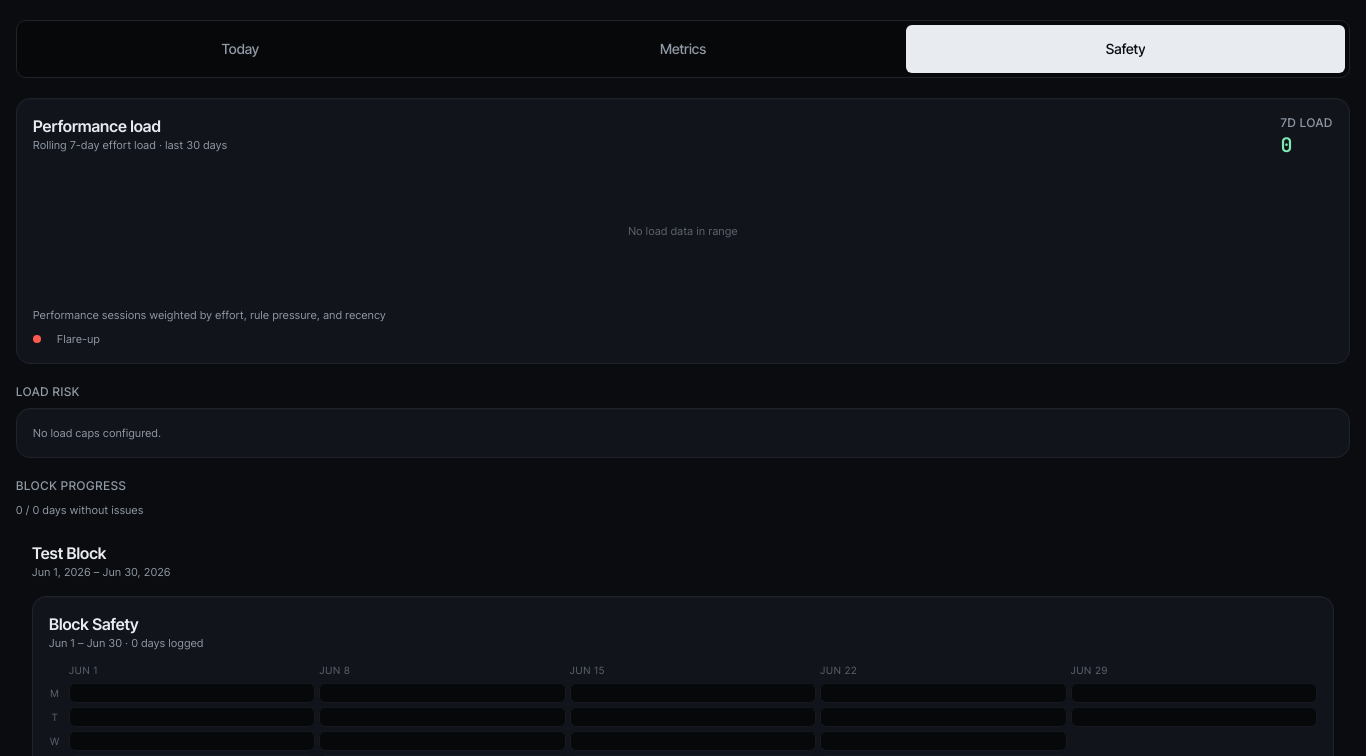
Scenario: DashboardScreen — activity status expandable detail › clamps days remaining to zero when nextSafeDate is before todayDate
Click the radio button labelled "Safety".
click(1126, 49)  # box x1=906 y1=25 x2=1345 y2=73
(page scrolled)
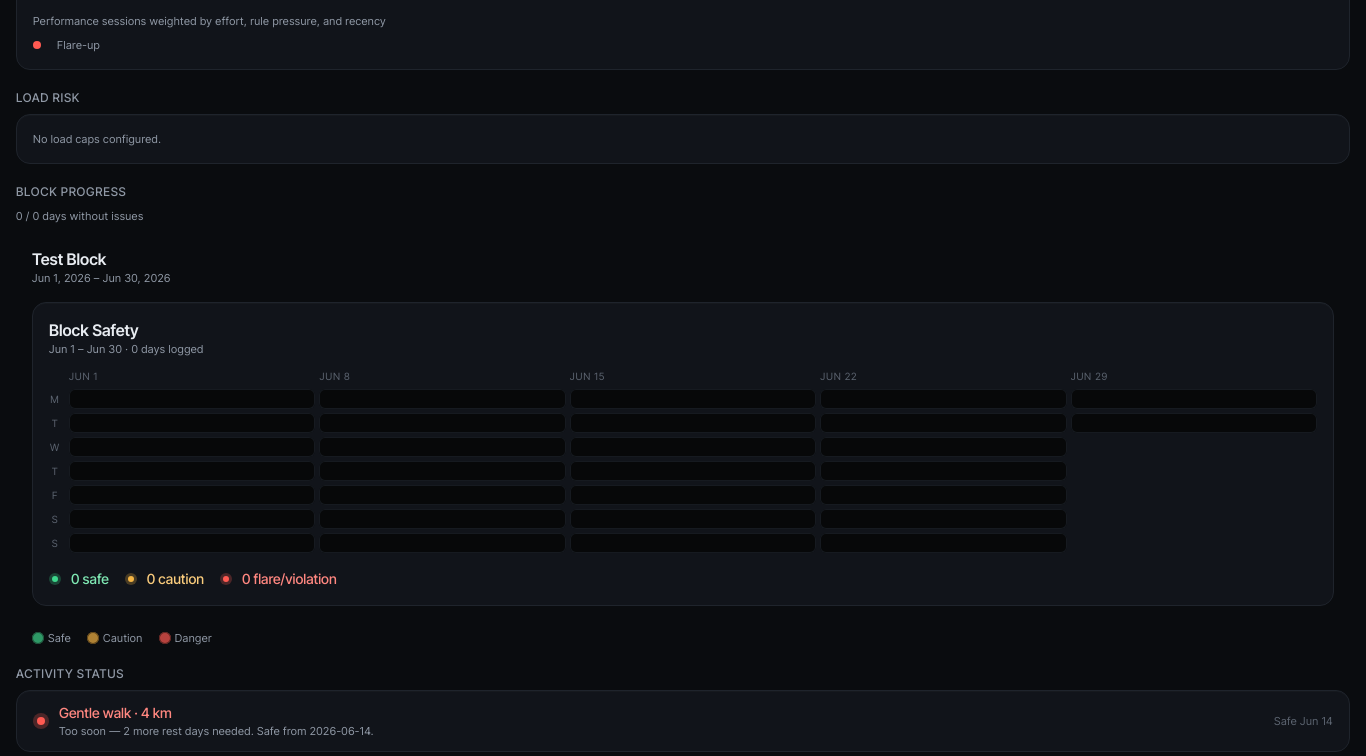
Click the button "Gentle walk".
click(115, 712)  # box x1=17 y1=691 x2=1349 y2=751
(page scrolled)
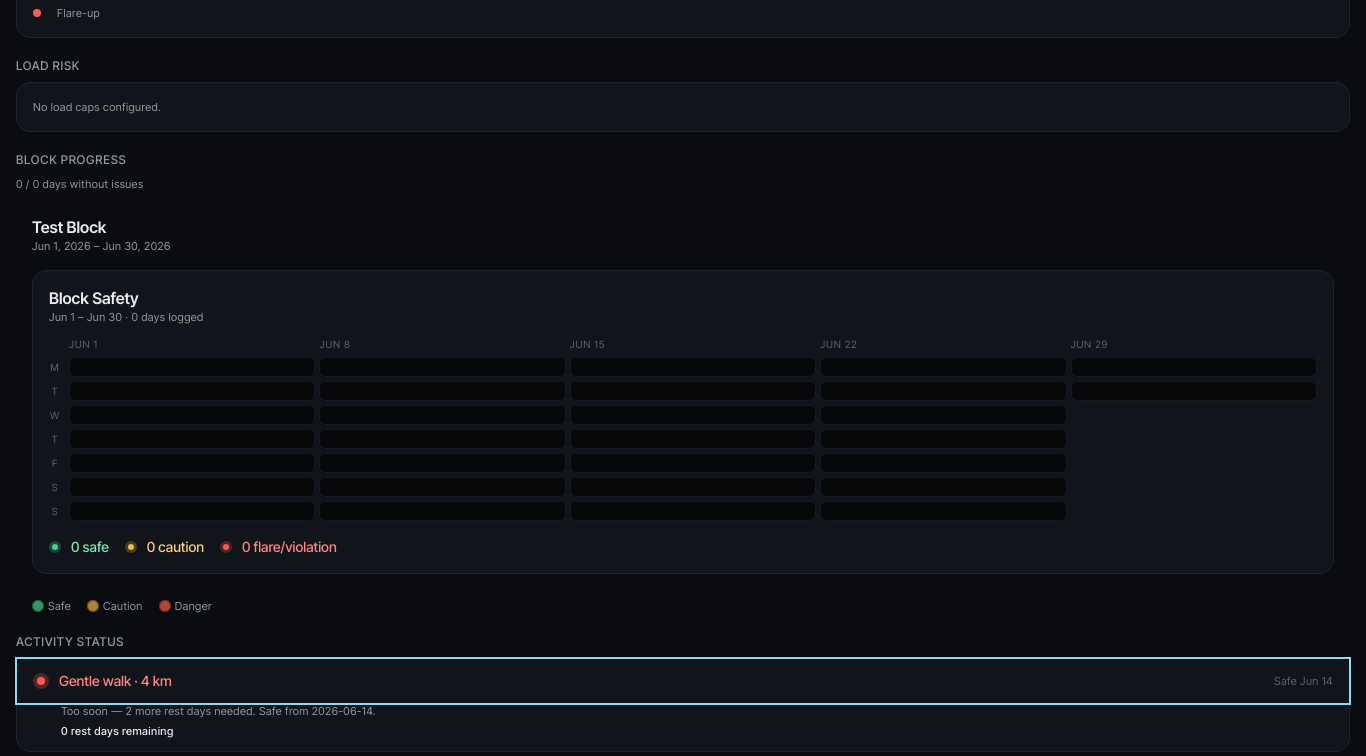
Expected: the text "Too soon — 2 more rest days needed. Safe from 2026-06-14." is shown, x1=61 y1=704 x2=376 y2=718
Expected: the text "0 rest days remaining" is shown, x1=61 y1=724 x2=174 y2=738
